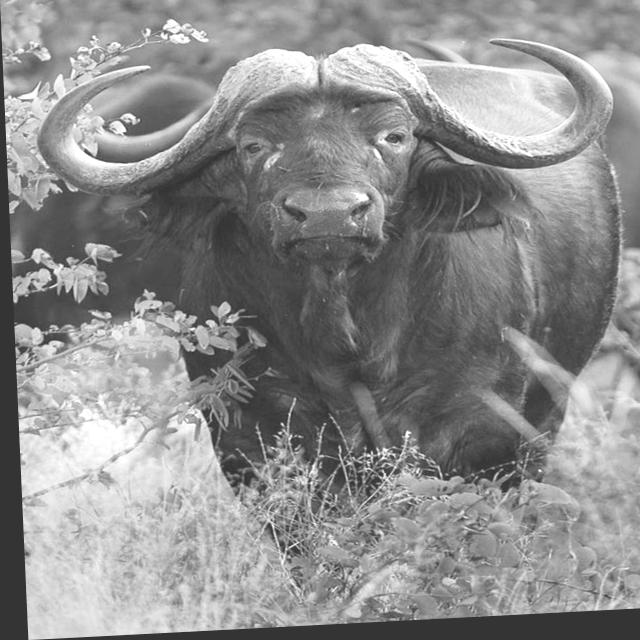Buffalo: (31, 30, 636, 609)
